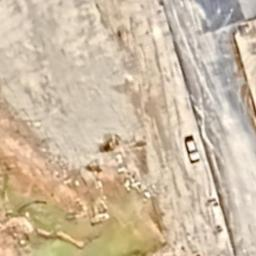pickup: (184, 135, 201, 164)
